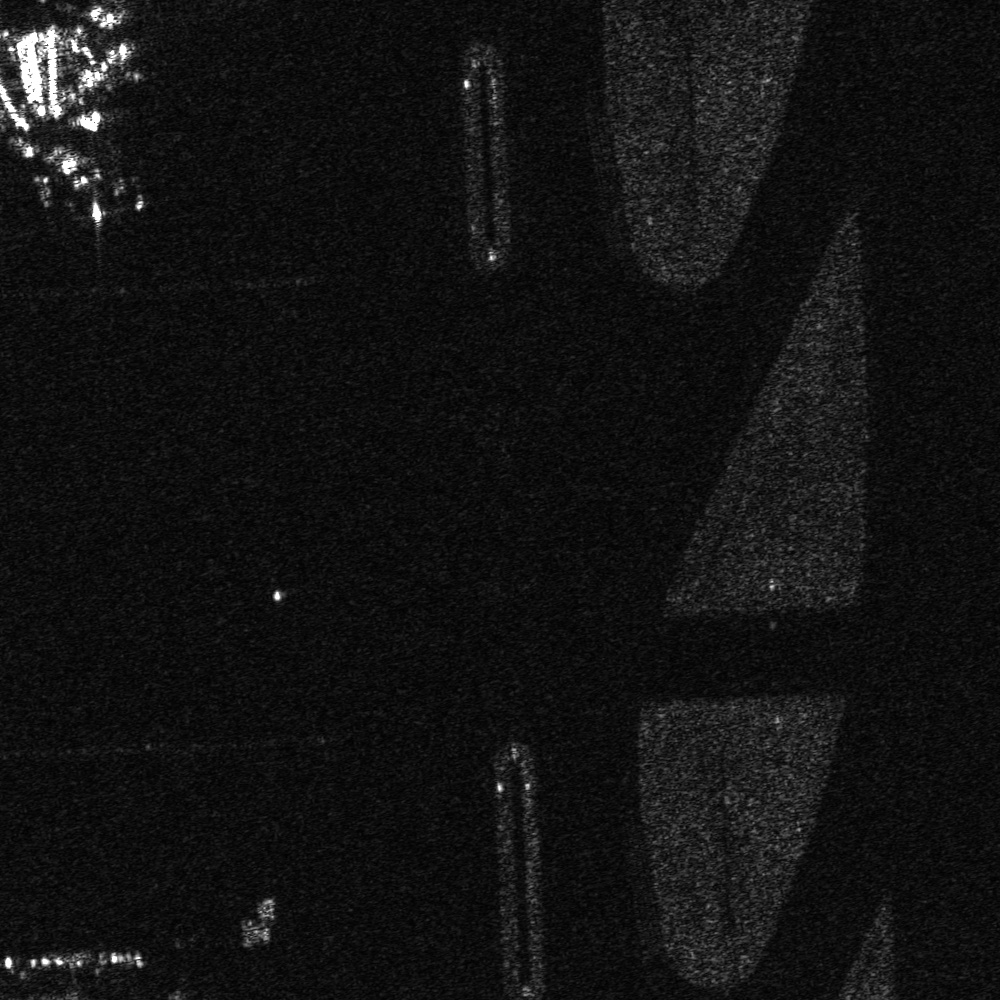Boeing737: (32, 141, 159, 230)
